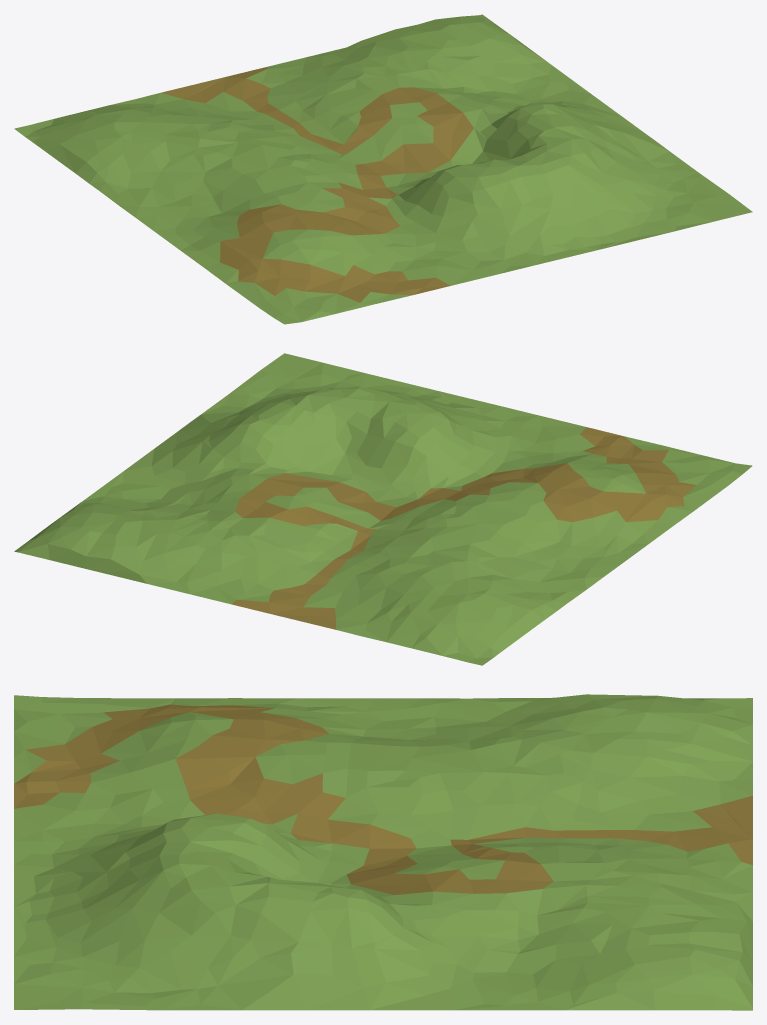
Rendered from TERRAIN.fbx.
3 renders of one model, top to bottom at view 1: azimuth 30°, elevation 25°; view 2: azimuth 150°, elevation 25°; view 3: azimuth 270°, elevation 25°, orthographic. The views are drawn at different scales.
Parts seen in each view (by area): view 1: Terrain_2; view 2: Terrain_2; view 3: Terrain_2.
Boxes of the visible parts, bbox=[...] form: Terrain_2: bbox=[14, 14, 752, 324]; Terrain_2: bbox=[14, 353, 752, 665]; Terrain_2: bbox=[14, 694, 752, 1010].
Size of the model in its own units: 2001 by 176 by 2000.
